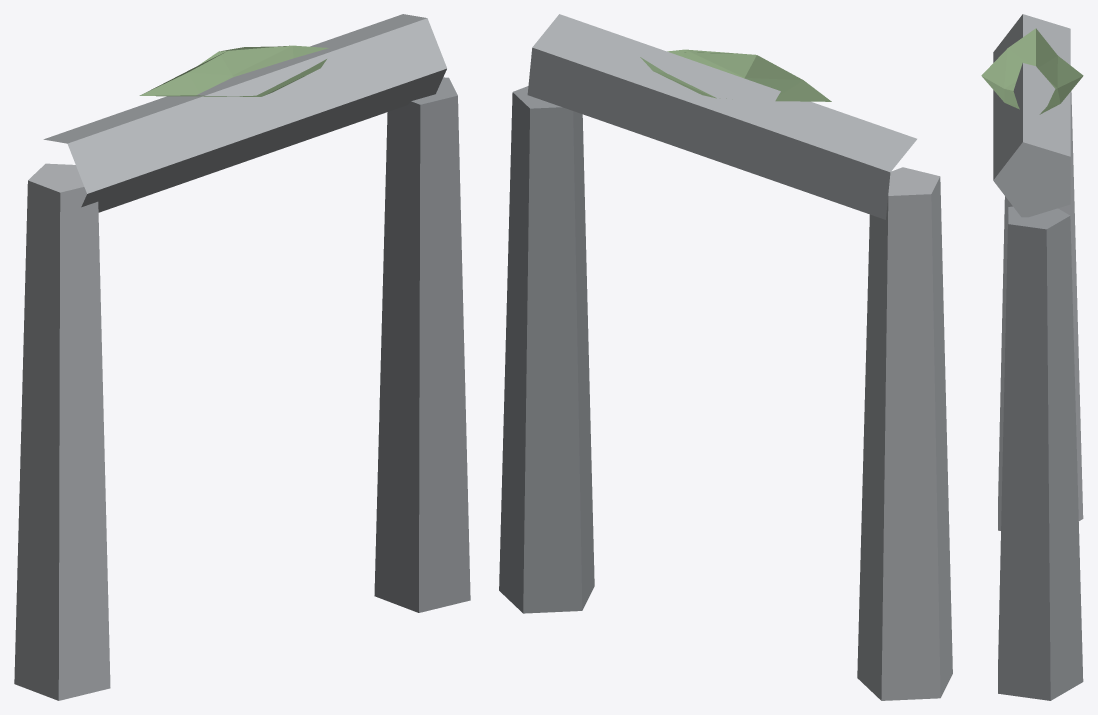
File: arch_rock_v34.glb
3 renders of one model, left to right at view 1: azimuth 30°, elevation 25°; view 2: azimuth 150°, elevation 25°; view 3: azimuth 270°, elevation 25°, orthographic. The views are drawn at different scales.
Visible parts, largest first — view 1: lod0; view 2: lod0; view 3: lod0.
Boxes of the visible parts, bbox=[...] form: lod0: bbox=[14, 14, 470, 700]; lod0: bbox=[499, 14, 952, 700]; lod0: bbox=[981, 14, 1083, 700].
Size of what is drawn, in the model's own units: 2.22 by 2.81 by 0.478.
